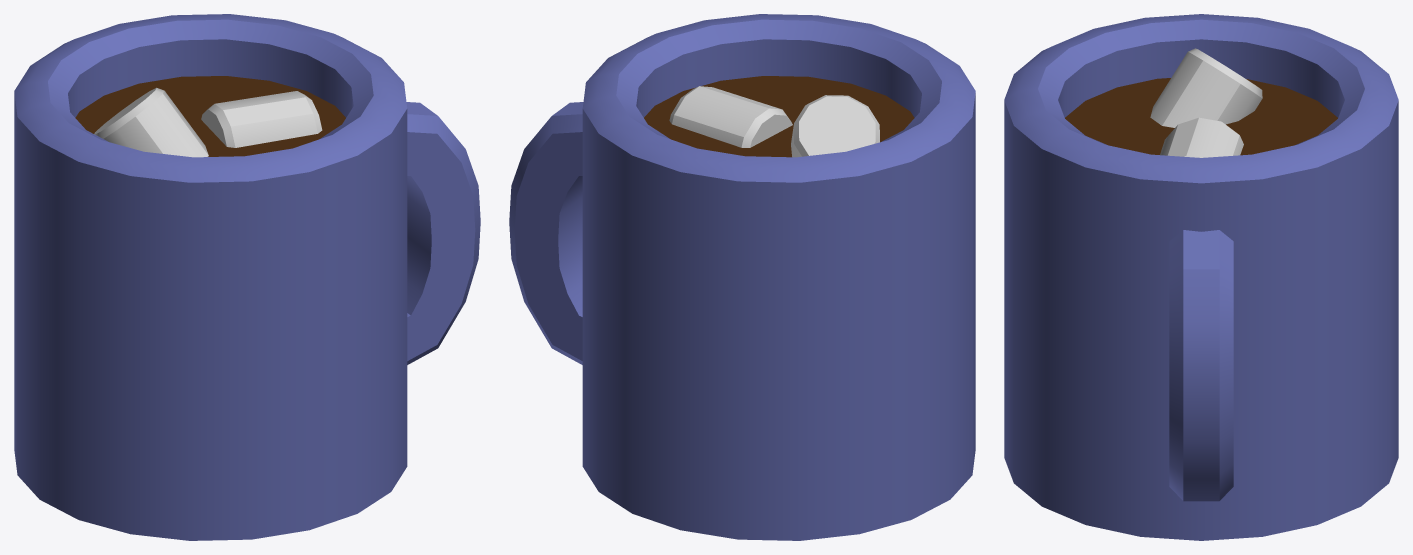
The model's file is hotCocoa.fbx.
The picture shows the model from 3 angles, left to right: view 1: azimuth 30°, elevation 25°; view 2: azimuth 150°, elevation 25°; view 3: azimuth 270°, elevation 25°; orthographic projection.
Visible parts, largest first — view 1: Hot Cocoa; view 2: Hot Cocoa; view 3: Hot Cocoa.
Part boxes in pixels (x1,y1,x2,y2): Hot Cocoa: (14, 14, 480, 540); Hot Cocoa: (509, 14, 975, 540); Hot Cocoa: (1004, 14, 1398, 540).
Bounding box in the file's own units: 28.36 × 22.47 × 23.65.
